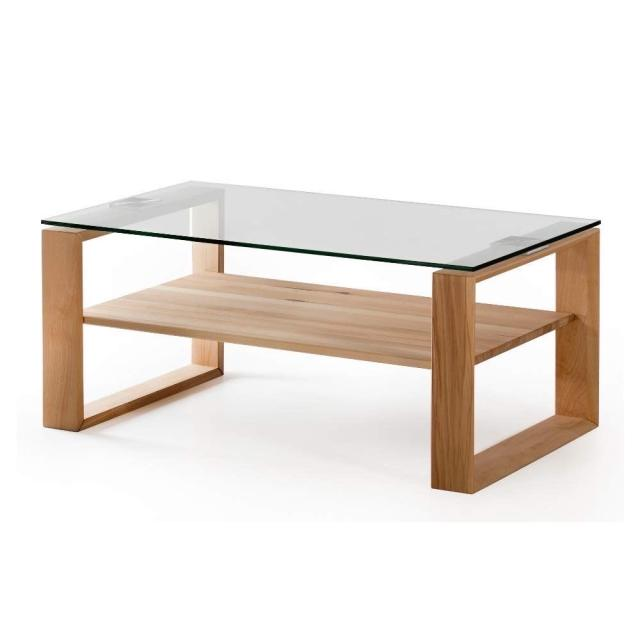table: (19, 160, 617, 544)
